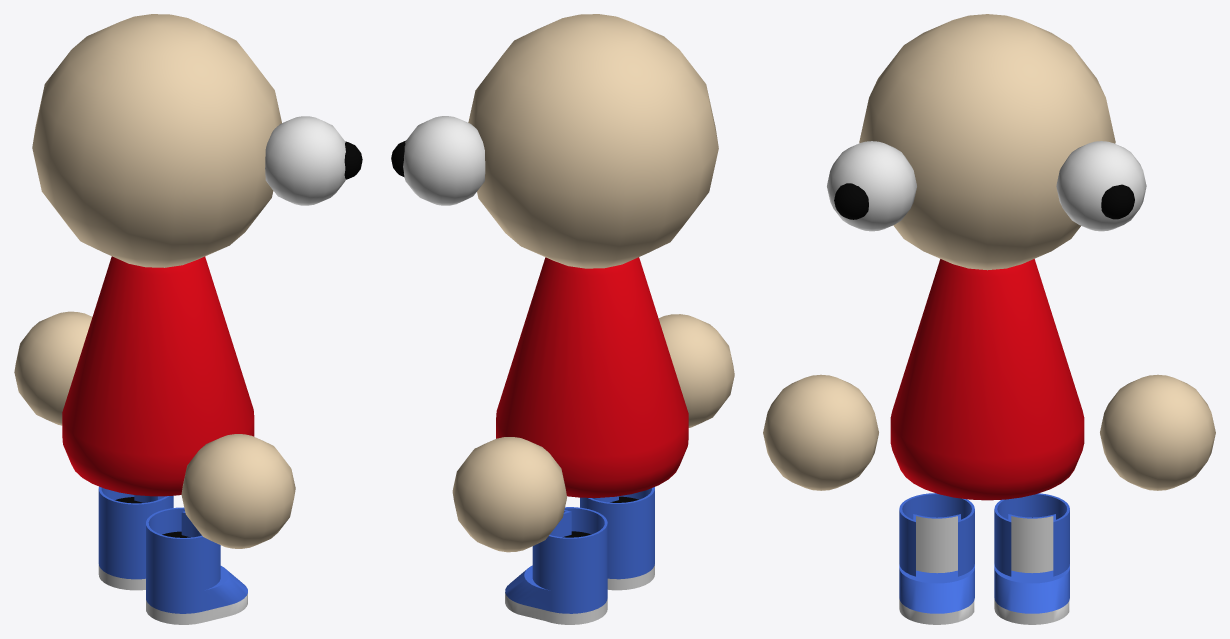
The model's file is Balla.fbx.
The picture shows the model from 3 angles, left to right: view 1: azimuth 30°, elevation 25°; view 2: azimuth 150°, elevation 25°; view 3: azimuth 270°, elevation 25°; orthographic projection.
Parts seen in each view (by area): view 1: Head, Body, R_Hand, R_Shoe, Eyeball, L_Hand, L_Shoe, Sphere.003; view 2: Head, Body, L_Hand, L_Shoe, Sphere.001, R_Hand, R_Shoe; view 3: Head, Body, L_Hand, R_Hand, R_Shoe, L_Shoe, Sphere.001, Eyeball, Sphere.003, Sphere.004.
Boxes of the visible parts, box(x1,y1,x2,y2) form: Head: box(32, 14, 281, 267); Body: box(62, 256, 254, 496); R_Hand: box(181, 434, 295, 548); R_Shoe: box(146, 507, 247, 624); Eyeball: box(265, 116, 345, 205); L_Hand: box(14, 311, 92, 425); L_Shoe: box(98, 486, 173, 590); Sphere.003: box(344, 141, 362, 179); Head: box(468, 14, 718, 268); Body: box(496, 257, 688, 497); L_Hand: box(452, 437, 566, 552); L_Shoe: box(505, 507, 607, 624); Sphere.001: box(403, 116, 485, 205); R_Hand: box(658, 314, 734, 427); R_Shoe: box(580, 487, 654, 590); Head: box(859, 14, 1115, 270); Body: box(890, 259, 1084, 500); L_Hand: box(1100, 374, 1215, 490); R_Hand: box(763, 374, 878, 490); R_Shoe: box(899, 493, 974, 624); L_Shoe: box(994, 493, 1069, 624); Sphere.001: box(1056, 141, 1146, 231); Eyeball: box(827, 141, 916, 231); Sphere.003: box(834, 183, 868, 219); Sphere.004: box(1101, 184, 1134, 219).
Size of the model in its own units: 223 by 490 by 353.
